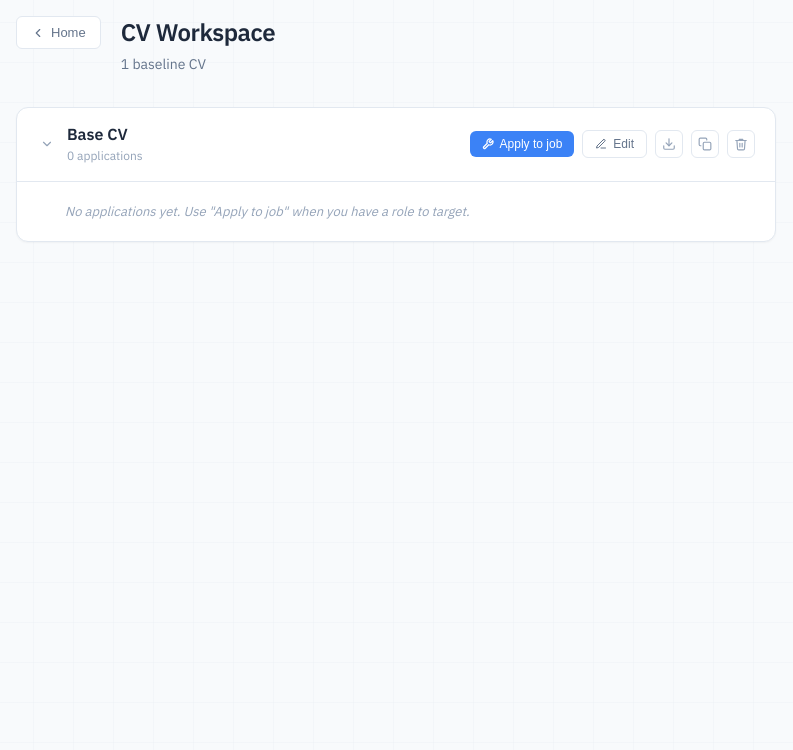
Test: Dashboard download feedback › shows a generation error toast when LaTeX generation fails
Check: the text "Base CV" is shown, box x1=67 y1=124 x2=128 y2=144
Click the button titled "Download PDF". click: click(669, 144)
box: x1=655 y1=130 x2=683 y2=158
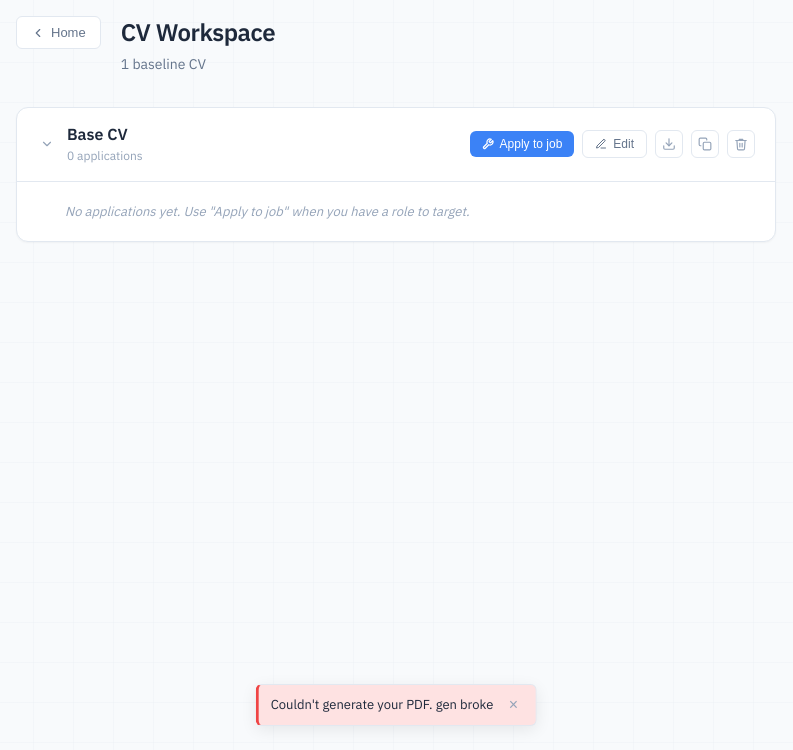
Check: the text "Couldn't generate your PDF. gen broke" is shown, box x1=271 y1=695 x2=493 y2=715
